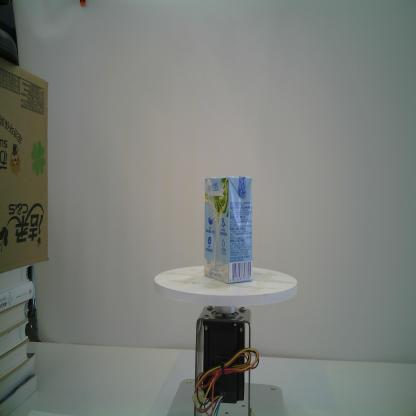Milk: (204, 175, 253, 284)
